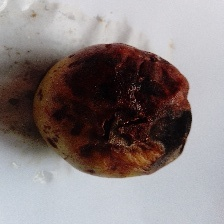guava: (19, 9, 181, 195)
